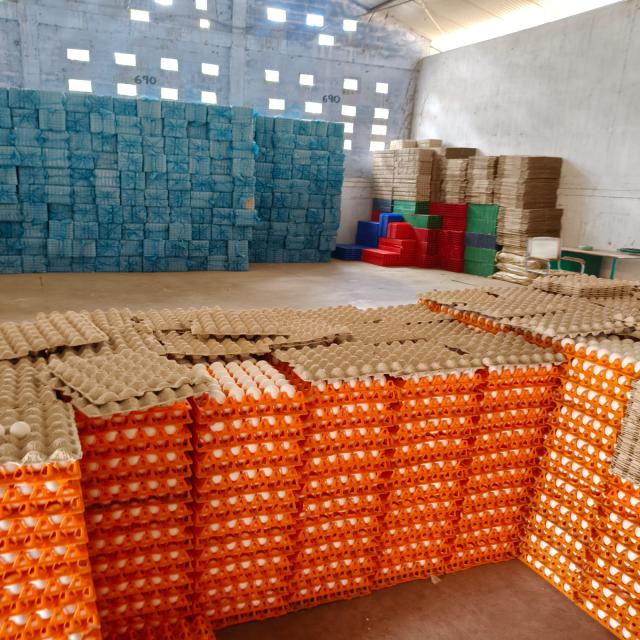egg_tray: (523, 336, 639, 637), (193, 359, 304, 627), (77, 402, 192, 635), (290, 376, 396, 609), (377, 371, 481, 586), (192, 359, 303, 538), (272, 323, 564, 383), (0, 462, 98, 640), (193, 465, 298, 627), (0, 462, 94, 636), (521, 509, 638, 638), (297, 418, 390, 564), (192, 359, 305, 478), (300, 376, 396, 516), (193, 416, 301, 540), (89, 501, 192, 623), (76, 403, 190, 507), (92, 508, 192, 626), (78, 403, 191, 507), (194, 512, 293, 623), (46, 348, 207, 416), (365, 458, 449, 588), (194, 505, 292, 616), (194, 436, 300, 538), (299, 424, 389, 543), (0, 514, 95, 626), (563, 498, 639, 637), (86, 499, 192, 598), (137, 307, 348, 356), (0, 461, 85, 582), (421, 289, 634, 337), (194, 527, 291, 628), (469, 365, 556, 476), (194, 444, 298, 536), (376, 474, 461, 586), (470, 365, 556, 473), (80, 403, 191, 486), (273, 340, 481, 384), (290, 508, 379, 610), (48, 350, 206, 405), (278, 363, 398, 434), (475, 364, 557, 467), (578, 468, 639, 606), (290, 514, 376, 610), (523, 465, 597, 570), (471, 377, 553, 470), (298, 441, 387, 526), (550, 374, 626, 473), (0, 462, 85, 550), (299, 437, 387, 522), (86, 496, 192, 566), (155, 320, 348, 358), (532, 438, 605, 538), (191, 358, 303, 422), (301, 403, 391, 481), (532, 448, 605, 544), (452, 482, 532, 568), (86, 499, 191, 563), (294, 508, 381, 584), (585, 487, 639, 608), (0, 570, 95, 638), (194, 485, 295, 548), (303, 403, 391, 475), (75, 402, 190, 456), (561, 354, 638, 433), (561, 336, 639, 413), (393, 394, 476, 466), (275, 362, 399, 410), (374, 516, 455, 588), (478, 363, 562, 432), (50, 308, 161, 360), (557, 381, 621, 471), (374, 516, 454, 587), (396, 371, 477, 441), (82, 436, 191, 488), (372, 521, 452, 588), (441, 324, 564, 367), (439, 323, 561, 366), (91, 536, 191, 588), (502, 298, 635, 337), (0, 401, 81, 464), (83, 440, 191, 487), (0, 312, 107, 359), (445, 507, 522, 572), (135, 307, 294, 338), (445, 508, 522, 572), (536, 457, 599, 535), (0, 571, 95, 622), (520, 524, 582, 602), (587, 511, 639, 604), (418, 287, 574, 318), (75, 401, 190, 443), (97, 589, 191, 640), (194, 358, 295, 405), (395, 369, 481, 422), (0, 462, 81, 517), (50, 321, 164, 360), (562, 356, 639, 413), (194, 438, 301, 478), (305, 400, 394, 447), (193, 414, 303, 452), (345, 304, 447, 344), (478, 364, 560, 413), (0, 602, 105, 640), (578, 576, 639, 640), (551, 403, 616, 463), (251, 309, 349, 348), (194, 465, 298, 501), (100, 602, 197, 640), (287, 567, 370, 611), (469, 424, 542, 473), (466, 446, 540, 492), (392, 416, 475, 457), (561, 335, 639, 376), (189, 307, 295, 337), (157, 332, 279, 358), (421, 299, 511, 334), (204, 593, 289, 630), (350, 314, 453, 344), (392, 369, 483, 401), (483, 332, 565, 367), (0, 358, 55, 410), (612, 379, 639, 484), (87, 501, 190, 528), (114, 615, 215, 640), (483, 358, 564, 389), (389, 458, 466, 490), (532, 274, 639, 297), (272, 320, 349, 350), (81, 308, 151, 340), (398, 393, 477, 420), (441, 305, 513, 334), (296, 304, 389, 326), (278, 320, 349, 348), (352, 303, 442, 325), (464, 466, 538, 492), (508, 327, 572, 355), (133, 308, 195, 333), (587, 293, 639, 322), (415, 288, 490, 308), (452, 310, 513, 334), (94, 566, 136, 599), (227, 490, 293, 511), (134, 572, 185, 591), (272, 430, 299, 456), (0, 420, 30, 440), (532, 513, 557, 531), (401, 462, 437, 472), (236, 541, 266, 553), (566, 359, 583, 377), (9, 422, 29, 436), (206, 497, 217, 522), (554, 500, 571, 513), (99, 588, 120, 598), (111, 572, 126, 586), (393, 305, 415, 314), (438, 440, 451, 454), (307, 482, 324, 492), (122, 507, 134, 521), (173, 561, 188, 572), (548, 536, 561, 548), (83, 438, 101, 446), (582, 457, 593, 470), (90, 529, 104, 539), (90, 520, 99, 535), (567, 454, 579, 465), (398, 512, 411, 522), (164, 503, 182, 510), (279, 491, 290, 502), (308, 438, 323, 446), (482, 462, 493, 472), (527, 518, 539, 526), (260, 491, 271, 498), (433, 454, 448, 459), (146, 427, 157, 433), (235, 493, 246, 499), (340, 434, 349, 441), (87, 513, 96, 520), (3, 628, 10, 637), (210, 510, 215, 522), (359, 557, 371, 562), (353, 432, 361, 439), (47, 518, 55, 525), (195, 363, 206, 368), (435, 425, 441, 434), (38, 519, 44, 528), (308, 485, 315, 492), (587, 394, 594, 401), (250, 447, 258, 453), (210, 498, 216, 506), (385, 450, 393, 456), (521, 508, 527, 516), (550, 515, 559, 520), (621, 609, 628, 615), (379, 482, 386, 488), (425, 420, 435, 424), (563, 510, 568, 518), (337, 321, 350, 324), (318, 310, 324, 316), (374, 427, 383, 431), (317, 486, 323, 492), (53, 551, 58, 558), (42, 616, 47, 623), (402, 451, 409, 456), (407, 400, 418, 403), (353, 428, 361, 432), (42, 616, 46, 624), (231, 336, 241, 339), (507, 453, 512, 459), (183, 605, 188, 611), (333, 448, 340, 452), (195, 364, 204, 367), (256, 545, 261, 550), (322, 562, 327, 567), (237, 546, 243, 550), (598, 400, 604, 404), (445, 531, 451, 535), (372, 508, 378, 512), (316, 530, 321, 534), (558, 527, 563, 531), (14, 546, 19, 550), (118, 440, 123, 444), (457, 345, 463, 348), (572, 493, 575, 499), (443, 407, 452, 409), (195, 454, 199, 458), (81, 553, 85, 557), (90, 548, 94, 552), (272, 530, 276, 534), (329, 561, 337, 563), (274, 340, 276, 348), (333, 449, 338, 452), (571, 480, 574, 485), (621, 405, 624, 410), (307, 438, 310, 443), (557, 358, 562, 361), (370, 438, 373, 442), (373, 427, 377, 430), (453, 442, 457, 445), (78, 571, 84, 573), (54, 386, 60, 388), (617, 494, 621, 497), (280, 338, 284, 341), (12, 628, 18, 630), (230, 551, 233, 555), (371, 457, 374, 461), (307, 422, 311, 425), (380, 415, 384, 418), (448, 527, 452, 530), (192, 326, 194, 331), (252, 492, 257, 494), (434, 496, 439, 498), (399, 442, 404, 444), (470, 522, 473, 525), (577, 496, 580, 499), (572, 464, 575, 467), (492, 299, 495, 302), (478, 460, 481, 463), (157, 599, 160, 602), (205, 451, 209, 453), (93, 313, 95, 317), (250, 352, 258, 353), (43, 373, 45, 377), (245, 522, 249, 524), (18, 634, 22, 636), (290, 501, 292, 505), (620, 403, 624, 405), (385, 476, 387, 480), (166, 576, 170, 578), (589, 542, 591, 546), (455, 438, 461, 439), (439, 420, 441, 423), (617, 545, 619, 548), (310, 449, 312, 452), (148, 584, 151, 586), (167, 584, 170, 586), (572, 576, 575, 578), (574, 468, 577, 470), (316, 423, 318, 426), (240, 488, 242, 491), (116, 559, 119, 561), (154, 552, 157, 554), (228, 496, 233, 497), (479, 522, 483, 523), (547, 528, 549, 530), (429, 446, 431, 448), (195, 454, 197, 456), (147, 516, 151, 517), (550, 533, 554, 534), (230, 547, 232, 549), (290, 483, 292, 485), (431, 485, 433, 487), (396, 449, 398, 451), (43, 615, 45, 617), (347, 564, 349, 566), (541, 508, 542, 512), (278, 456, 281, 457), (305, 320, 308, 321), (176, 607, 179, 608), (276, 407, 279, 408), (195, 503, 196, 506), (401, 425, 402, 428), (357, 429, 359, 430), (97, 320, 98, 322), (136, 536, 138, 537), (605, 580, 606, 582), (584, 362, 586, 363), (617, 507, 619, 508), (371, 403, 373, 404), (31, 629, 33, 630), (536, 418, 538, 419), (165, 576, 167, 577), (259, 598, 261, 599), (630, 509, 631, 511), (435, 396, 437, 397), (445, 527, 447, 528), (449, 504, 450, 506), (447, 496, 449, 497), (435, 464, 436, 466), (164, 576, 166, 577), (3, 635, 5, 636), (338, 560, 339, 562), (531, 462, 532, 464), (381, 429, 382, 430), (429, 447, 430, 448), (171, 425, 172, 426), (638, 367, 639, 368), (485, 347, 486, 348), (156, 585, 157, 586), (107, 585, 108, 586), (574, 492, 575, 493), (607, 491, 608, 492), (430, 307, 431, 308), (523, 547, 524, 548), (444, 323, 445, 324), (69, 616, 70, 617), (523, 478, 524, 479), (188, 580, 189, 581), (272, 348, 273, 349), (211, 450, 215, 450), (96, 312, 97, 312), (462, 450, 463, 450), (453, 450, 455, 450), (311, 452, 312, 452), (327, 443, 331, 443), (476, 523, 477, 523), (180, 612, 182, 612), (306, 430, 306, 430), (122, 594, 123, 594), (116, 510, 116, 510), (636, 522, 636, 524), (69, 636, 70, 636), (234, 421, 235, 421), (90, 550, 91, 550), (536, 425, 536, 425), (475, 310, 477, 310), (438, 310, 439, 310), (433, 310, 434, 310), (496, 294, 497, 294), (188, 581, 189, 581), (103, 636, 103, 637), (337, 308, 339, 308), (241, 490, 241, 490), (636, 318, 636, 320), (49, 636, 66, 636), (94, 627, 94, 628), (370, 554, 370, 554), (369, 550, 370, 550), (361, 525, 361, 526), (403, 452, 403, 452), (412, 443, 412, 443), (287, 514, 287, 515), (429, 312, 430, 312), (478, 470, 479, 470), (496, 368, 498, 368), (107, 445, 108, 445), (503, 381, 503, 382), (149, 552, 151, 552)
